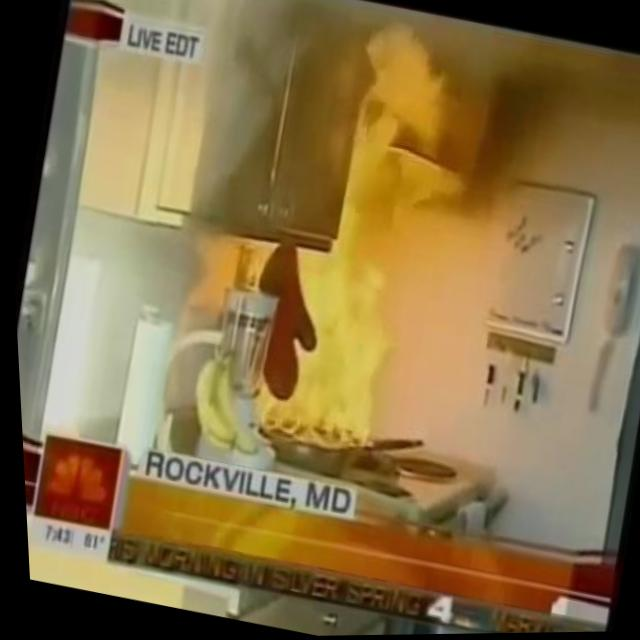fire: (235, 207, 437, 465)
